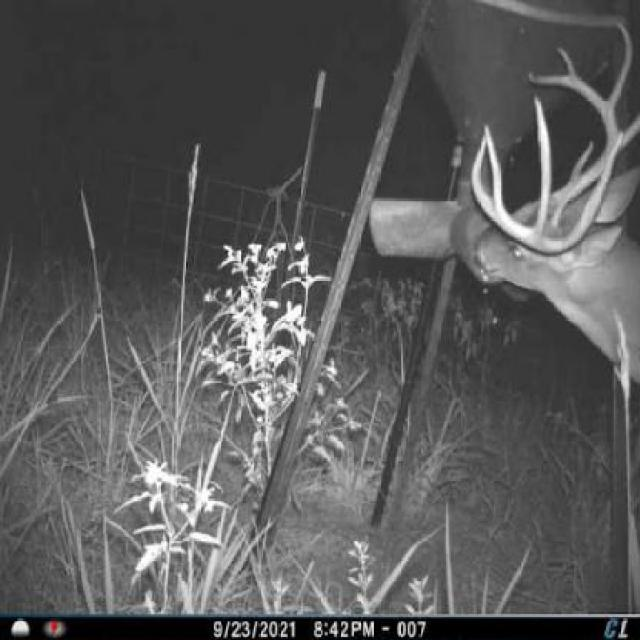Deer: (472, 18, 639, 399)
